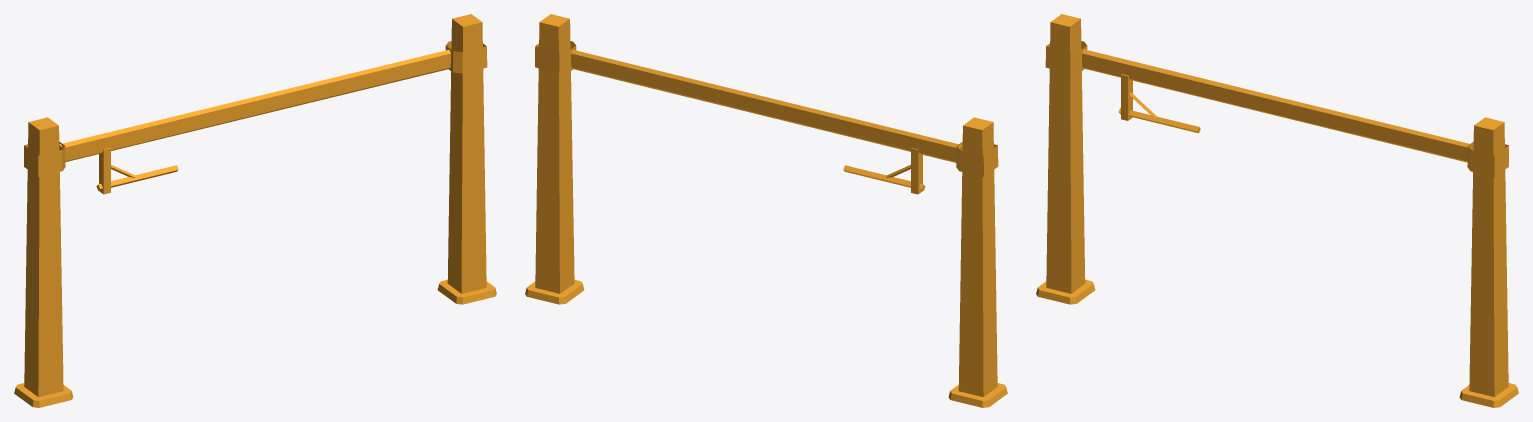
File: SM_Train_Wiring_Switch_Collider.fbx
The picture shows the model from 3 angles, left to right: view 1: azimuth 30°, elevation 25°; view 2: azimuth 150°, elevation 25°; view 3: azimuth 330°, elevation 25°; orthographic projection.
Parts seen in each view (by area): view 1: SM_Train_Wiring_Switch_Collider; view 2: SM_Train_Wiring_Switch_Collider; view 3: SM_Train_Wiring_Switch_Collider.
Part boxes in pixels (x1,y1,x2,y2): SM_Train_Wiring_Switch_Collider: (14, 14, 496, 407); SM_Train_Wiring_Switch_Collider: (525, 14, 1007, 407); SM_Train_Wiring_Switch_Collider: (1036, 14, 1518, 407).
Bounding box in the file's own units: 15.34 × 8.58 × 1.34.
